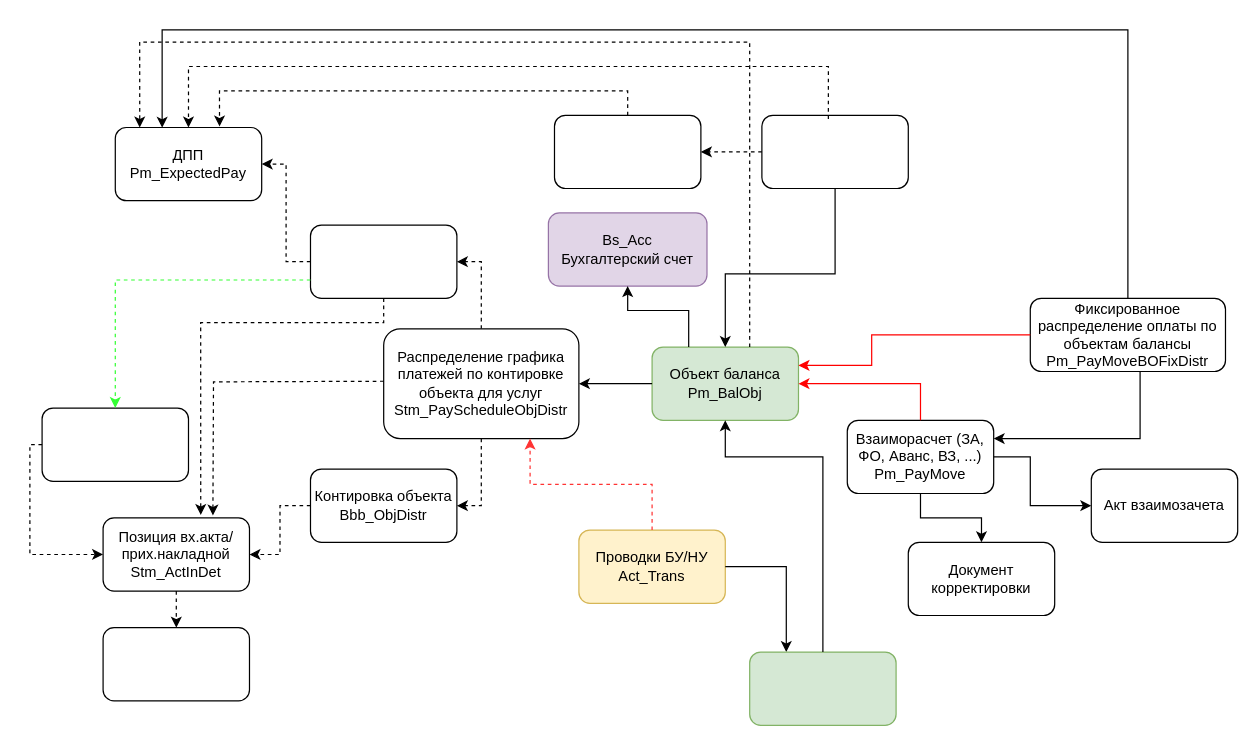
The diagram is 1259 pixels wide and 747 high, and some of its shapes have lost their labels. Here are the shapes that lost their labels. From the top down, the centre of each, then its label:
At (627,151): "Заявка на платеж".
At (834,151): "Исходяший ПП".
At (383,261): "График платежей Stm_PaySchedule".
At (114,444): "Детализация позиции ПН Stm_ActInDetItem".
At (175,663): "Входящий акт/ Приходная накладная Stm_ActIn".
At (822,688): "Регистр азаиморасчетов Pm_PayMoveReg".
